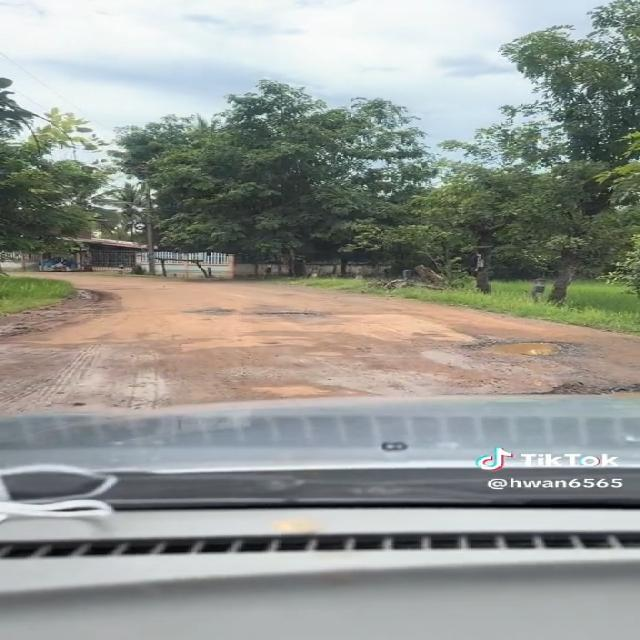Poth-hole: (205, 338, 417, 397)
